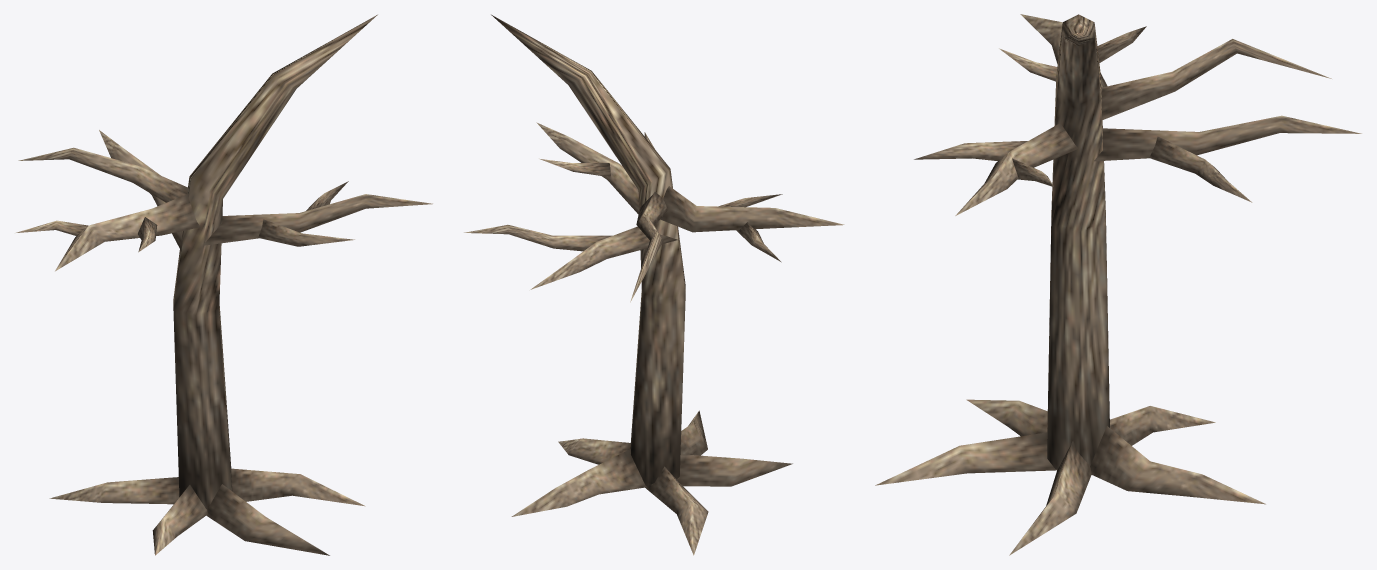
3 views of the same model, side by side, from view 1: azimuth 30°, elevation 25°; view 2: azimuth 150°, elevation 25°; view 3: azimuth 270°, elevation 25° (orthographic). The views are drawn at different scales.
Visible parts, largest first — view 1: SMDImport; view 2: SMDImport; view 3: SMDImport.
Boxes of the visible parts, bbox=[...] form: SMDImport: bbox=[16, 14, 432, 555]; SMDImport: bbox=[464, 14, 844, 555]; SMDImport: bbox=[875, 14, 1361, 555].
Bounding box in the file's own units: 268 × 335 × 270.
